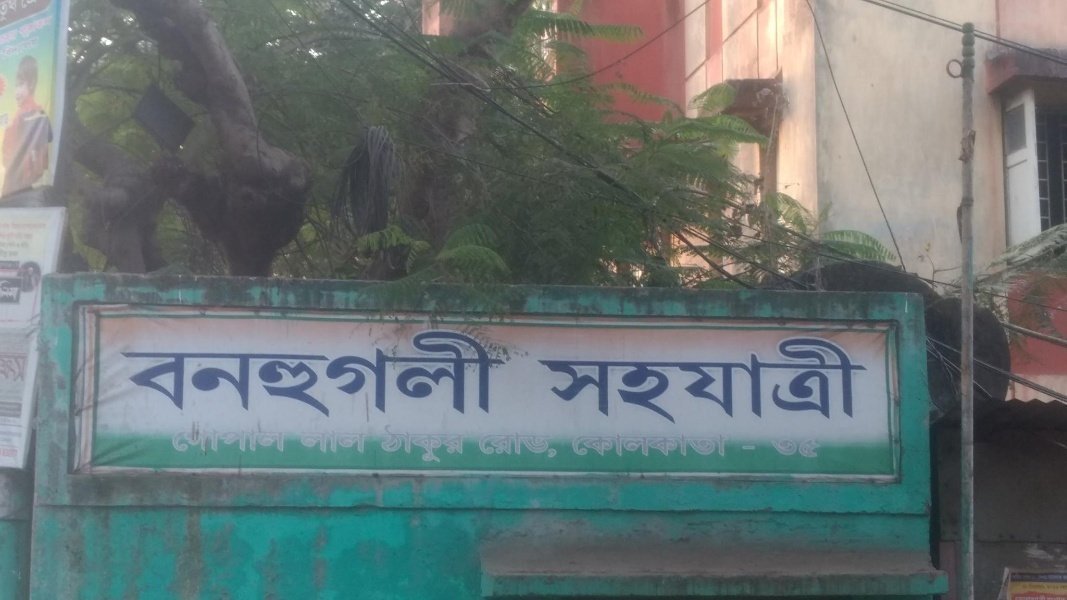text: (129, 324, 144, 420), (145, 324, 160, 420), (161, 324, 176, 420), (177, 324, 192, 420), (193, 324, 208, 420), (209, 324, 224, 420), (225, 324, 240, 420), (241, 324, 256, 420), (257, 324, 272, 420), (273, 324, 288, 420), (289, 324, 304, 420), (305, 324, 320, 420), (321, 324, 336, 420), (337, 324, 352, 420), (353, 324, 368, 420), (369, 324, 384, 420), (385, 324, 400, 420), (401, 324, 416, 420), (417, 324, 432, 420), (433, 324, 448, 420), (449, 324, 464, 420), (465, 324, 480, 420), (481, 324, 496, 420), (545, 337, 560, 427), (561, 337, 576, 427), (577, 337, 592, 427), (593, 337, 608, 427), (609, 337, 624, 427), (625, 337, 640, 427), (641, 337, 656, 427), (657, 337, 672, 427), (673, 337, 688, 427), (689, 337, 704, 427), (705, 337, 720, 427), (721, 337, 736, 427), (737, 337, 752, 427), (753, 337, 768, 427), (769, 337, 784, 427), (785, 337, 800, 427), (801, 337, 816, 427), (817, 337, 832, 427), (833, 337, 848, 427), (849, 337, 864, 427), (497, 324, 510, 420), (119, 324, 128, 420), (865, 337, 873, 427), (385, 422, 400, 465), (401, 422, 416, 465), (417, 422, 432, 465), (433, 422, 448, 465), (449, 422, 464, 465), (537, 337, 544, 427), (577, 431, 592, 458), (593, 431, 608, 458), (609, 431, 624, 458), (625, 431, 640, 458), (641, 431, 656, 458), (657, 431, 672, 458), (673, 431, 688, 458), (689, 431, 704, 458), (705, 431, 720, 458), (721, 431, 736, 458), (737, 431, 752, 458), (177, 429, 192, 454), (193, 429, 208, 454), (209, 429, 224, 454), (225, 429, 240, 454), (241, 429, 256, 454), (257, 429, 272, 454), (273, 429, 288, 454), (481, 434, 496, 458), (497, 434, 512, 458), (513, 434, 528, 458), (529, 434, 544, 458), (305, 430, 320, 453), (321, 430, 336, 453), (337, 430, 352, 453), (353, 430, 367, 453), (785, 437, 800, 458), (801, 437, 816, 458), (545, 434, 556, 458), (378, 422, 384, 465), (772, 437, 784, 458), (569, 431, 576, 458), (297, 430, 304, 453), (753, 431, 756, 458), (173, 429, 176, 454), (817, 437, 820, 458), (465, 422, 466, 465), (289, 429, 290, 454), (479, 434, 480, 458)
